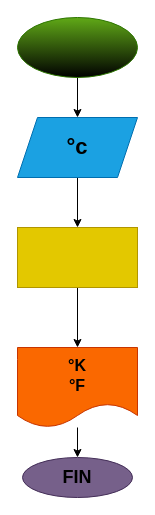
The diagram is 155 pixels wide and 515 high, and some of its shapes have lost their labels. Each missing label, with the box of its shape:
Inicio: (16, 16, 138, 78)
°k=°c+273.15 °F=°c*1.8+32: (16, 226, 138, 288)
